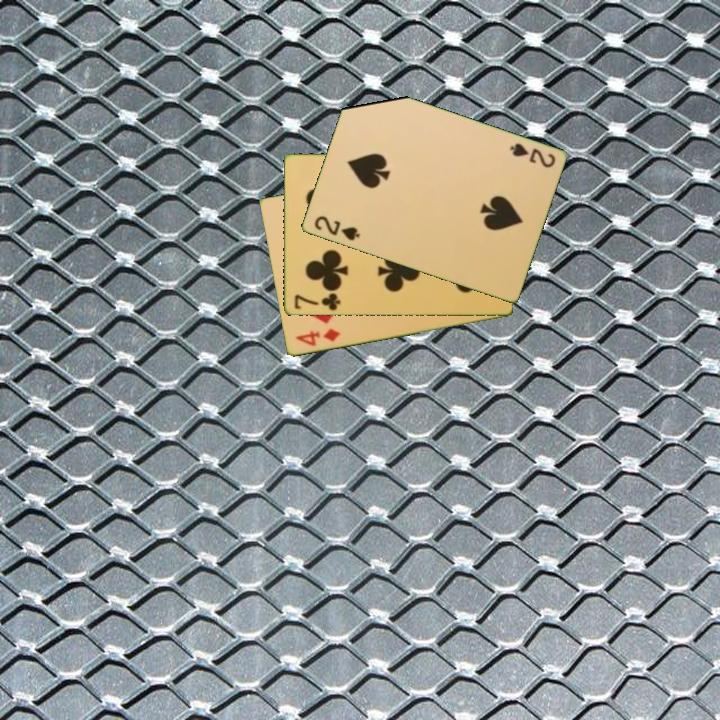2s: (310, 212, 363, 244), (506, 140, 558, 171)
4d: (292, 325, 343, 349)
7c: (291, 290, 343, 313)
